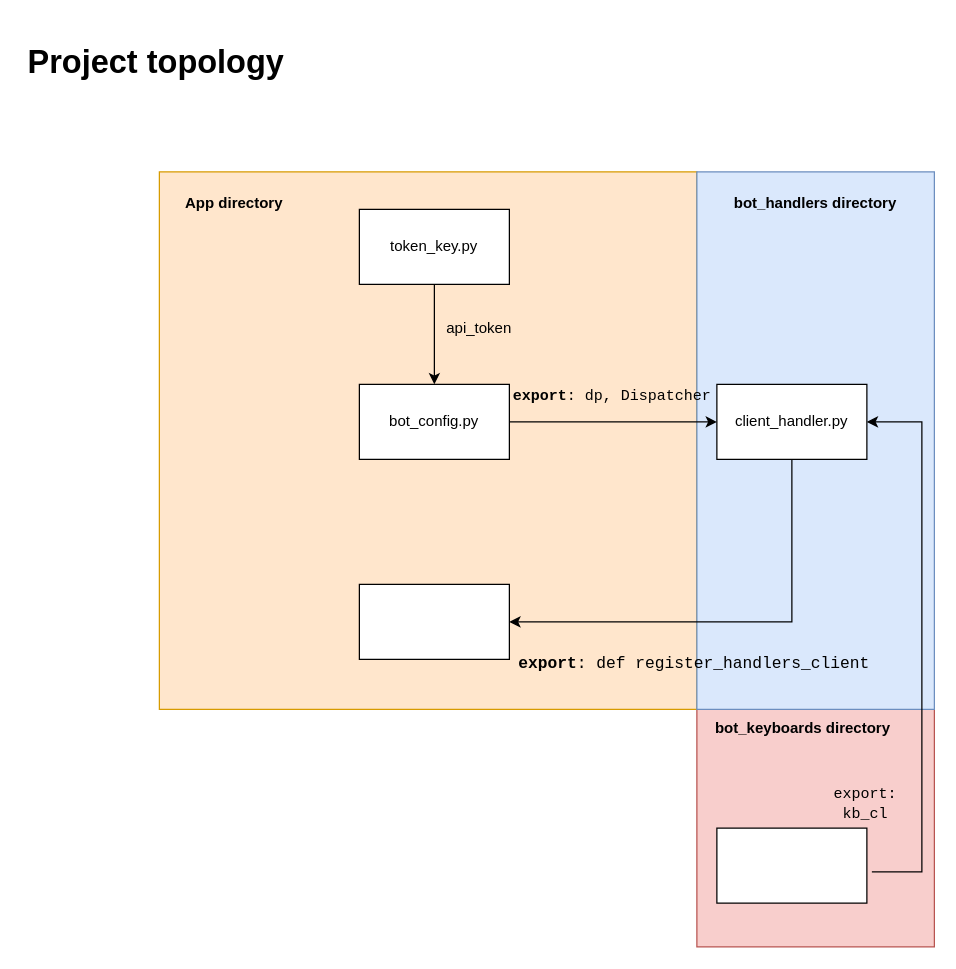
Image size: 956x969. Some labels were removed from this diagram. Here are the shapes that lost their labels. From the top down, the centre of each, then its label:
At pixel 433 621: "main.py".
At pixel 791 865: "client_keyboards".
